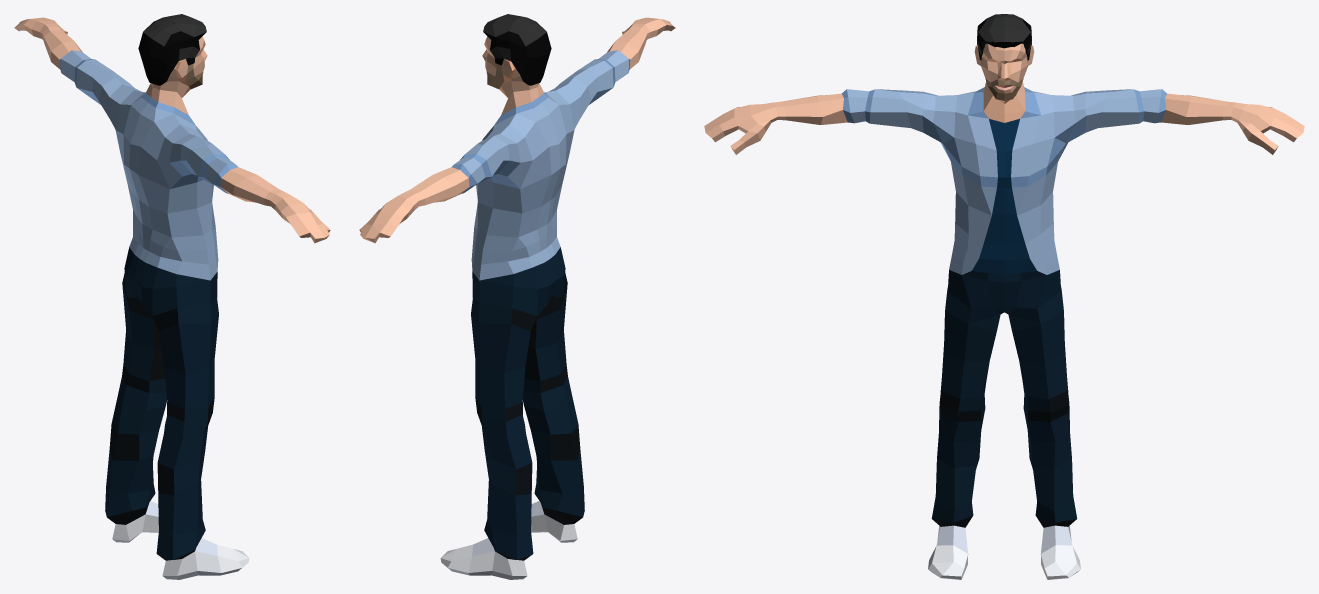
File: male_draco.glb
3 views of the same model, side by side, from view 1: azimuth 30°, elevation 25°; view 2: azimuth 150°, elevation 25°; view 3: azimuth 270°, elevation 25° (orthographic).
Parts seen in each view (by area): view 1: lpMaleG; view 2: lpMaleG; view 3: lpMaleG.
Part boxes in pixels (bbox=[...]): lpMaleG: bbox=[14, 14, 330, 579]; lpMaleG: bbox=[359, 14, 675, 579]; lpMaleG: bbox=[704, 14, 1304, 579].
Bounding box in the file's own units: 32.64 × 182 × 183.
Materials: 1 (1 with a texture image).
